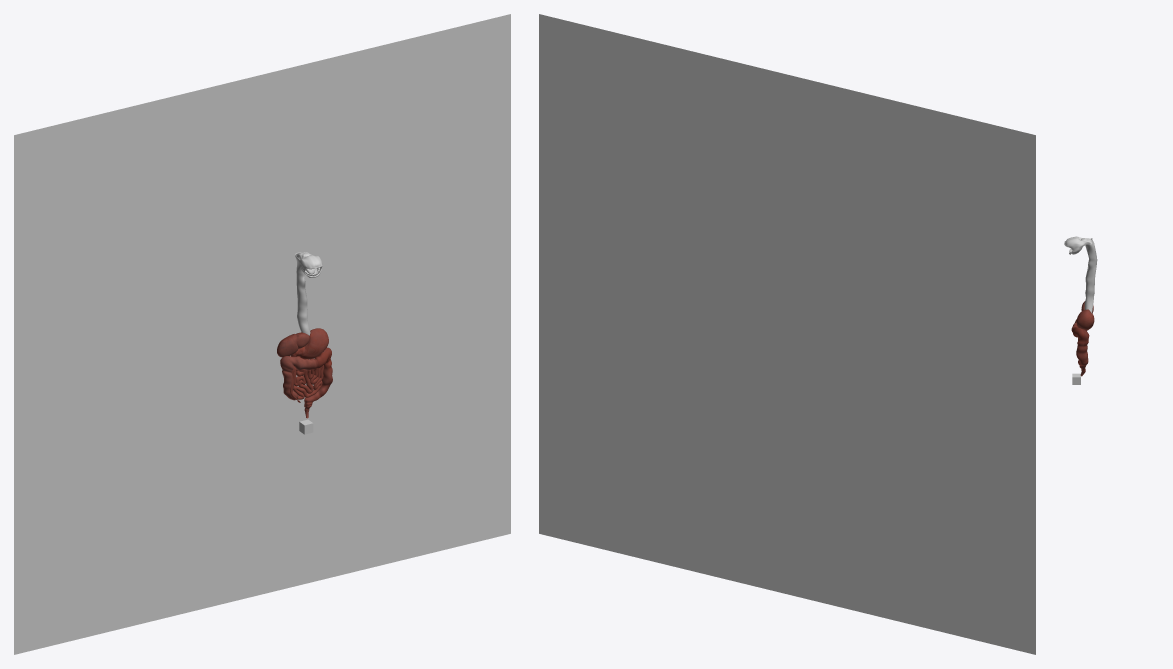
Rendered from animación organos.fbx.
3 views of the same model, side by side, from view 1: azimuth 30°, elevation 25°; view 2: azimuth 150°, elevation 25°; view 3: azimuth 270°, elevation 25° (orthographic). The views are drawn at different scales.
Visible parts, largest first — view 1: Plane, Cube.003, Cube.005, Cube.001; view 2: Plane; view 3: Cube.001, Cube.003, Plane.000, Cube.002.
Boxes of the visible parts, <box> form: Plane: <box>14,14,510,654</box>; Cube.003: <box>280,347,332,418</box>; Cube.005: <box>293,356,324,399</box>; Cube.001: <box>295,252,310,335</box>; Plane: <box>539,14,1035,654</box>; Cube.001: <box>1084,238,1097,312</box>; Cube.003: <box>1071,319,1089,376</box>; Plane.000: <box>1064,236,1092,254</box>; Cube.002: <box>1076,309,1094,330</box>.
Bounding box in the file's own units: 11205 × 11205 × 2195.
